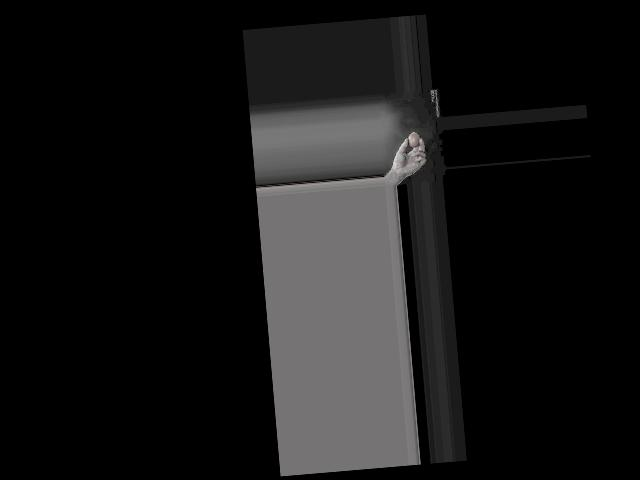egg: (407, 132, 420, 148)
